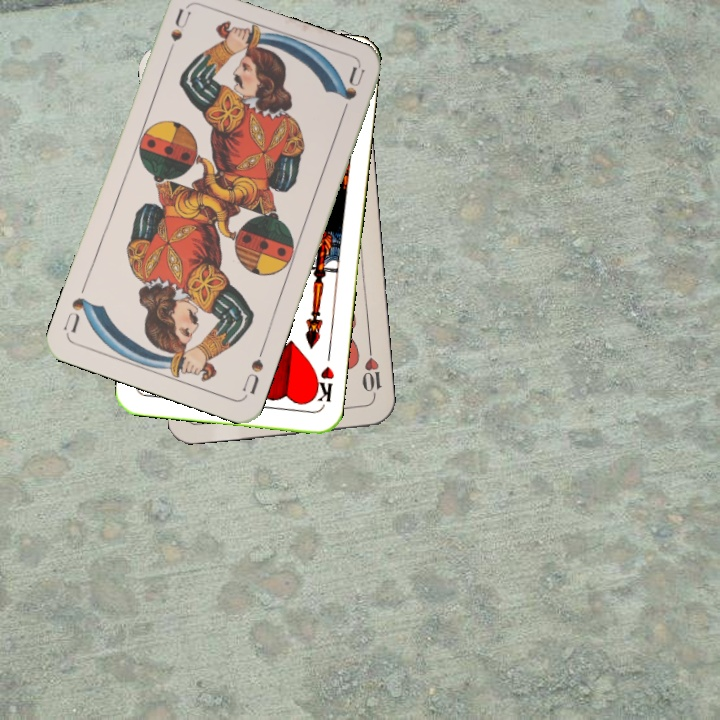H10: (358, 343, 385, 402)
HK: (308, 362, 337, 409)
SU: (161, 5, 194, 63), (238, 341, 268, 399)
